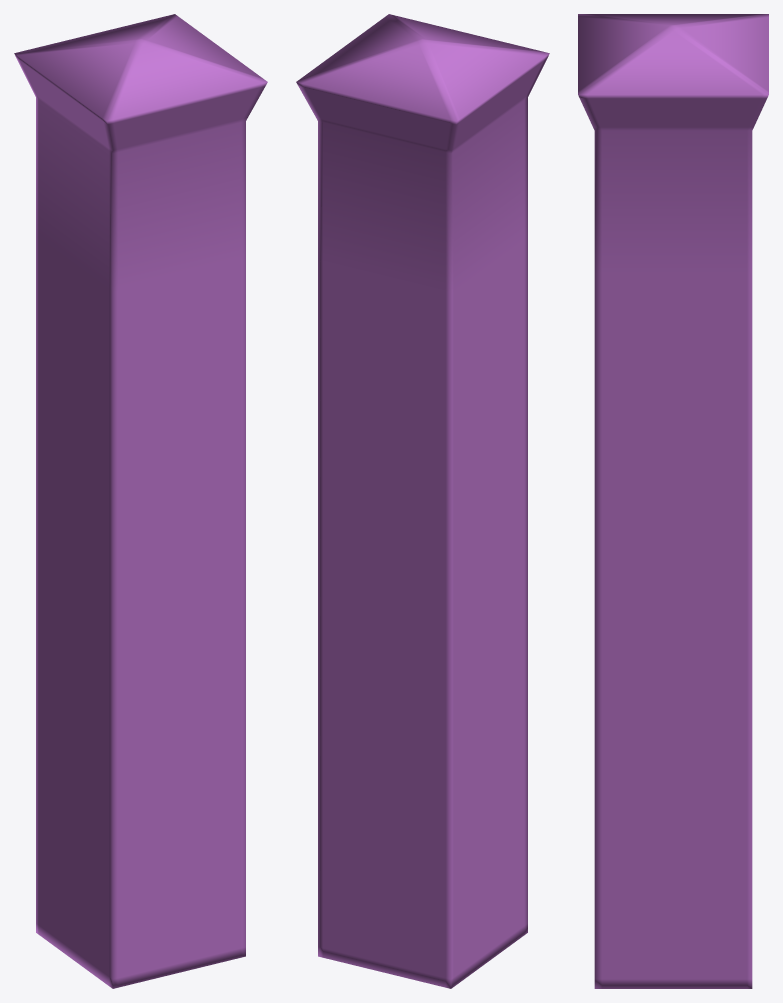
The model's file is Struct_Fence1_Column_A.fbx.
3 renders of one model, left to right at view 1: azimuth 30°, elevation 25°; view 2: azimuth 150°, elevation 25°; view 3: azimuth 270°, elevation 25°, orthographic. The views are drawn at different scales.
Visible parts, largest first — view 1: Struct_Fence1_Column_A; view 2: Struct_Fence1_Column_A; view 3: Struct_Fence1_Column_A.
Part boxes in pixels (x1,y1,x2,y2): Struct_Fence1_Column_A: (14,14,267,988); Struct_Fence1_Column_A: (296,14,549,988); Struct_Fence1_Column_A: (578,14,768,988).
Size of the model in its own units: 1.09 by 5.85 by 1.09.
